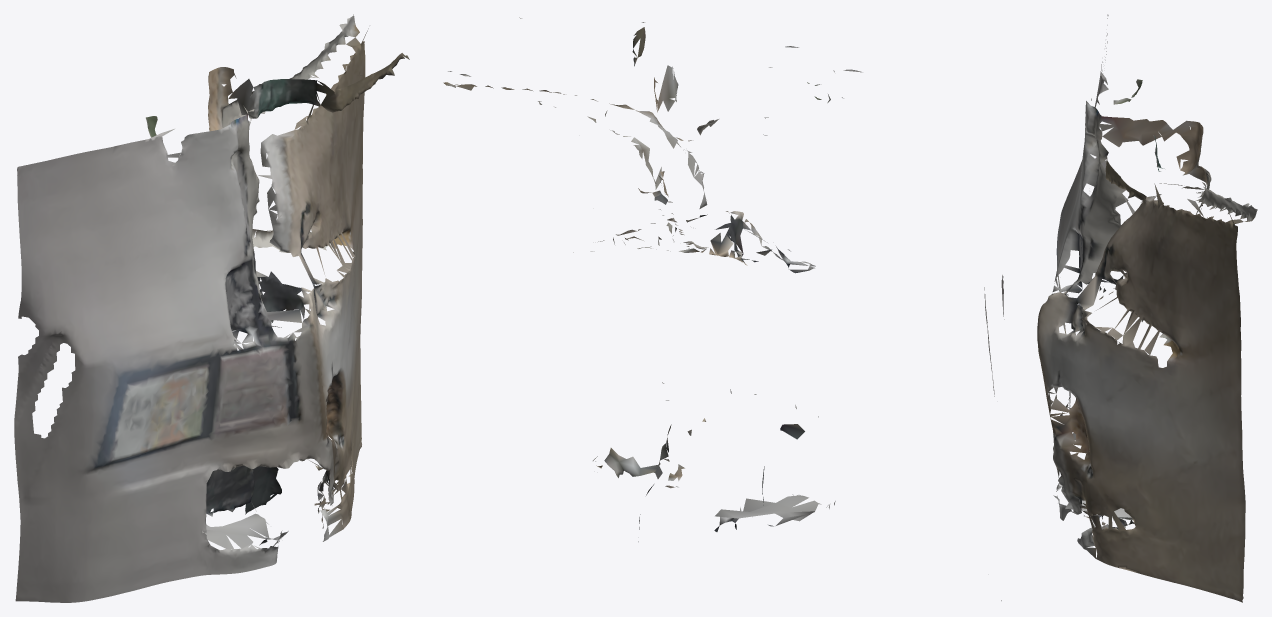
The picture shows the model from 3 angles, left to right: view 1: azimuth 30°, elevation 25°; view 2: azimuth 150°, elevation 25°; view 3: azimuth 270°, elevation 25°; orthographic projection. The views are drawn at different scales.
Bounding box in the file's own units: 0.9984 × 0.9938 × 0.4955.
